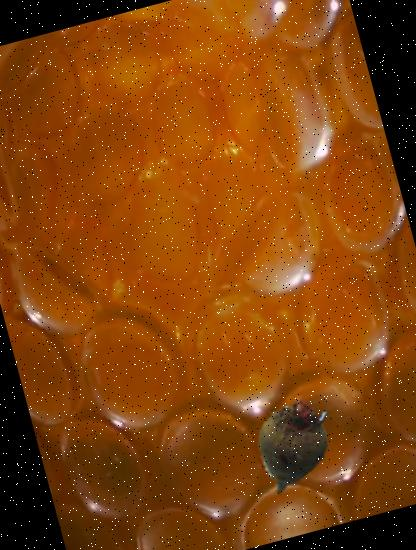Beetroot: (229, 382, 355, 508)
